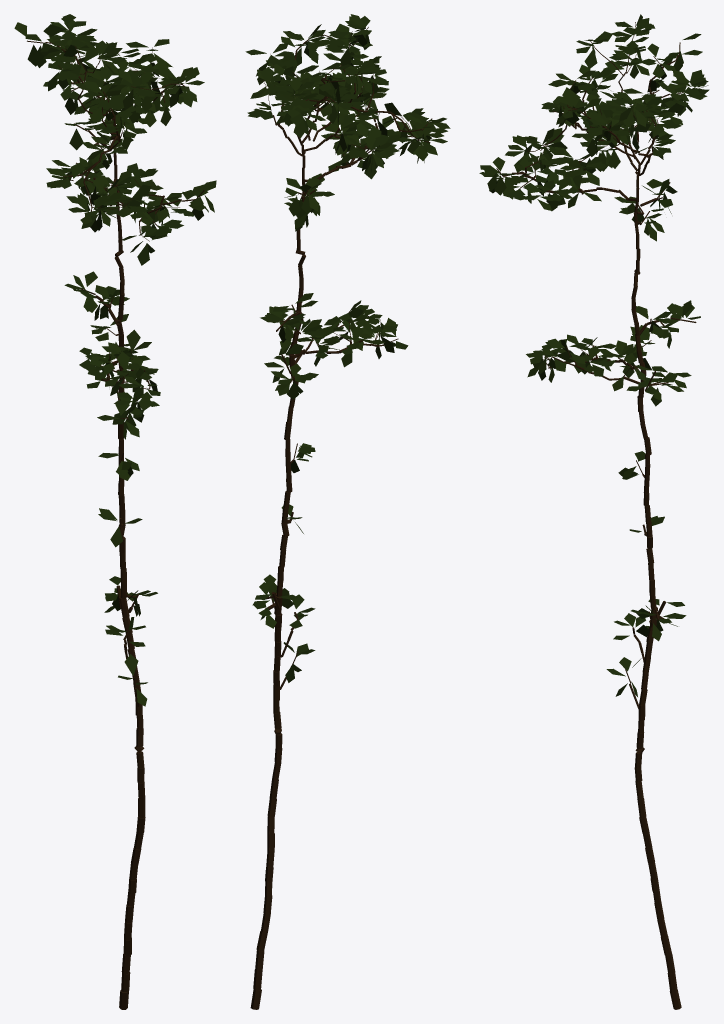
File: tree_524.obj
3 views of the same model, side by side, from view 1: azimuth 30°, elevation 25°; view 2: azimuth 150°, elevation 25°; view 3: azimuth 270°, elevation 25° (orthographic). The views are drawn at different scales.
Visible parts, largest first — view 1: Leaves, TrunkAndBranches; view 2: Leaves, TrunkAndBranches; view 3: Leaves, TrunkAndBranches.
Boxes of the visible parts, box(x1,y1,x2,y2) form: Leaves: box(14, 14, 216, 706); TrunkAndBranches: box(27, 24, 204, 1009); Leaves: box(245, 14, 450, 682); TrunkAndBranches: box(250, 27, 432, 1009); Leaves: box(479, 14, 709, 696); TrunkAndBranches: box(496, 22, 699, 1009).
Size of the model in its own units: 2.4 by 14.09 by 3.09.
